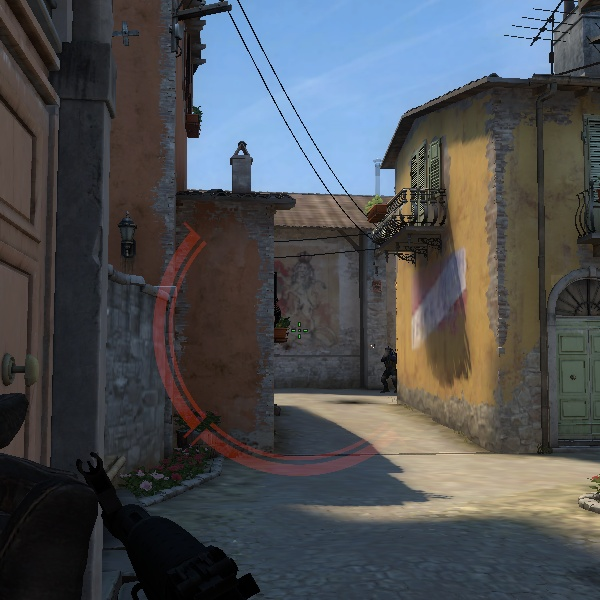ct_body: (375, 343, 399, 393)
